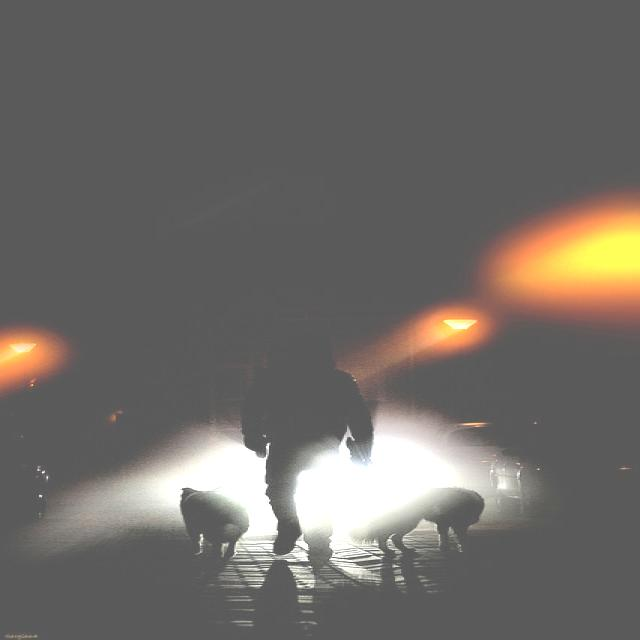Dog: (344, 487, 495, 570), (175, 484, 244, 569)
